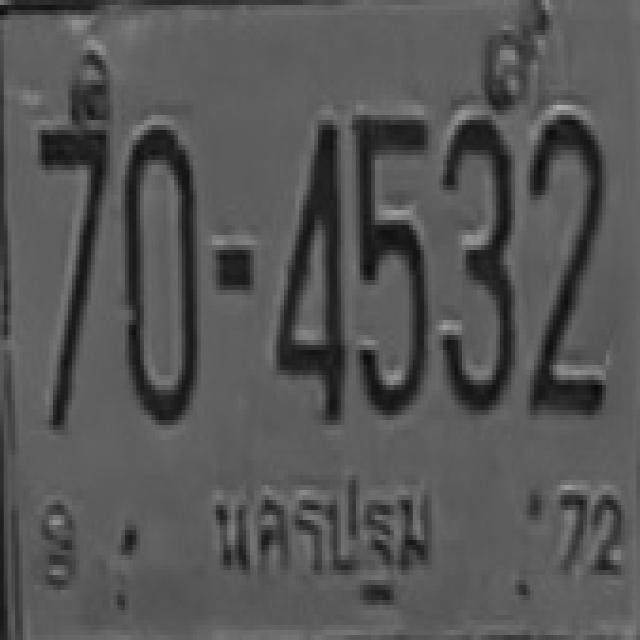0: (121, 122, 197, 422)
2: (524, 112, 610, 412)
3: (439, 118, 512, 408)
4: (272, 115, 344, 415)
5: (350, 112, 433, 416)
7: (36, 123, 109, 423)
NakhonPathom: (198, 456, 436, 608)
